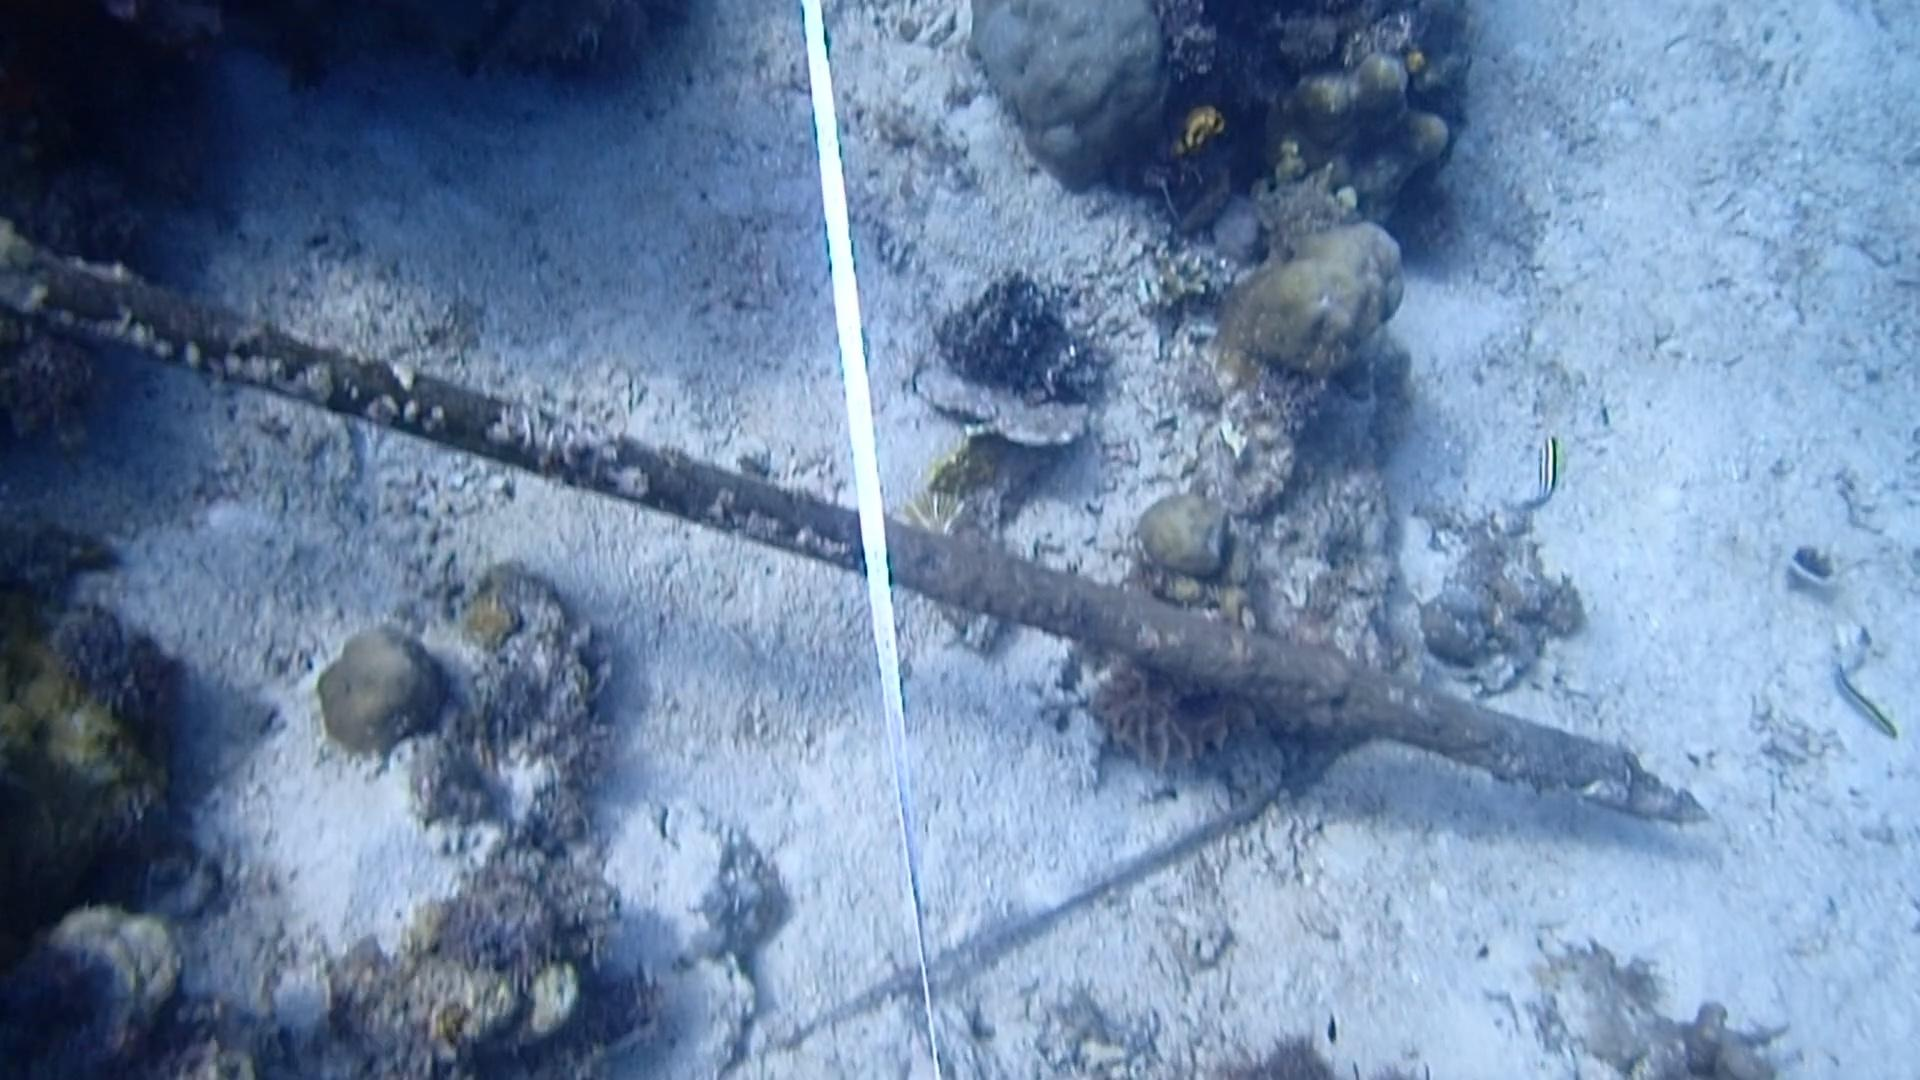Striped Fish: (1828, 654, 1900, 754), (1509, 436, 1576, 514)
